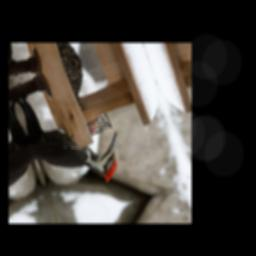Woodpecker: (13, 70, 134, 205)
